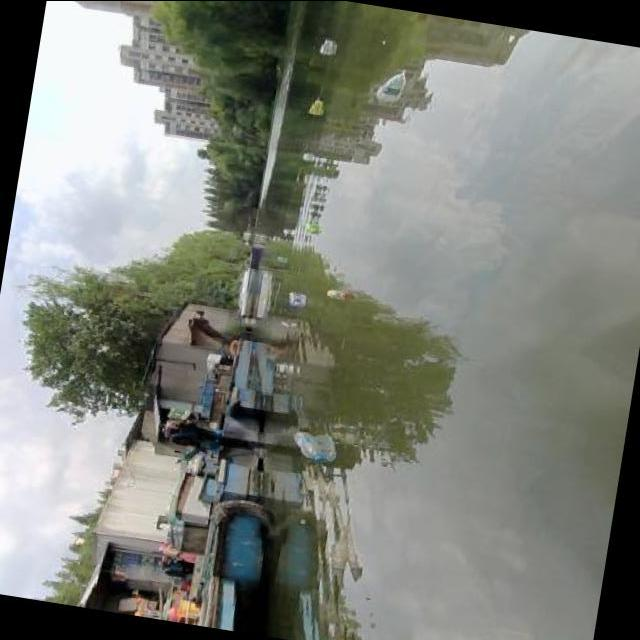Bottle: (367, 63, 423, 111), (291, 428, 329, 466), (304, 214, 326, 240), (324, 286, 352, 304), (286, 286, 306, 308)
